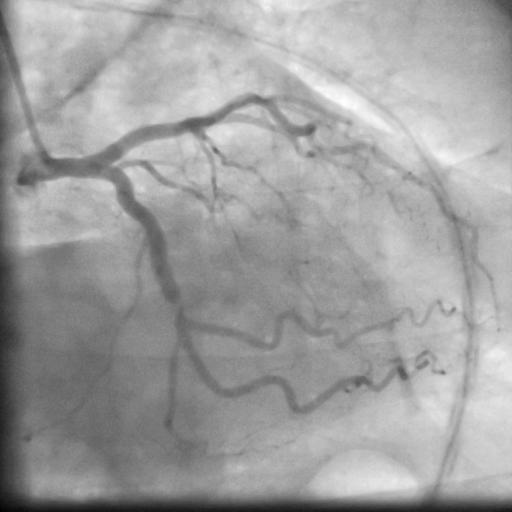Stenosis: (164, 293, 188, 314)
